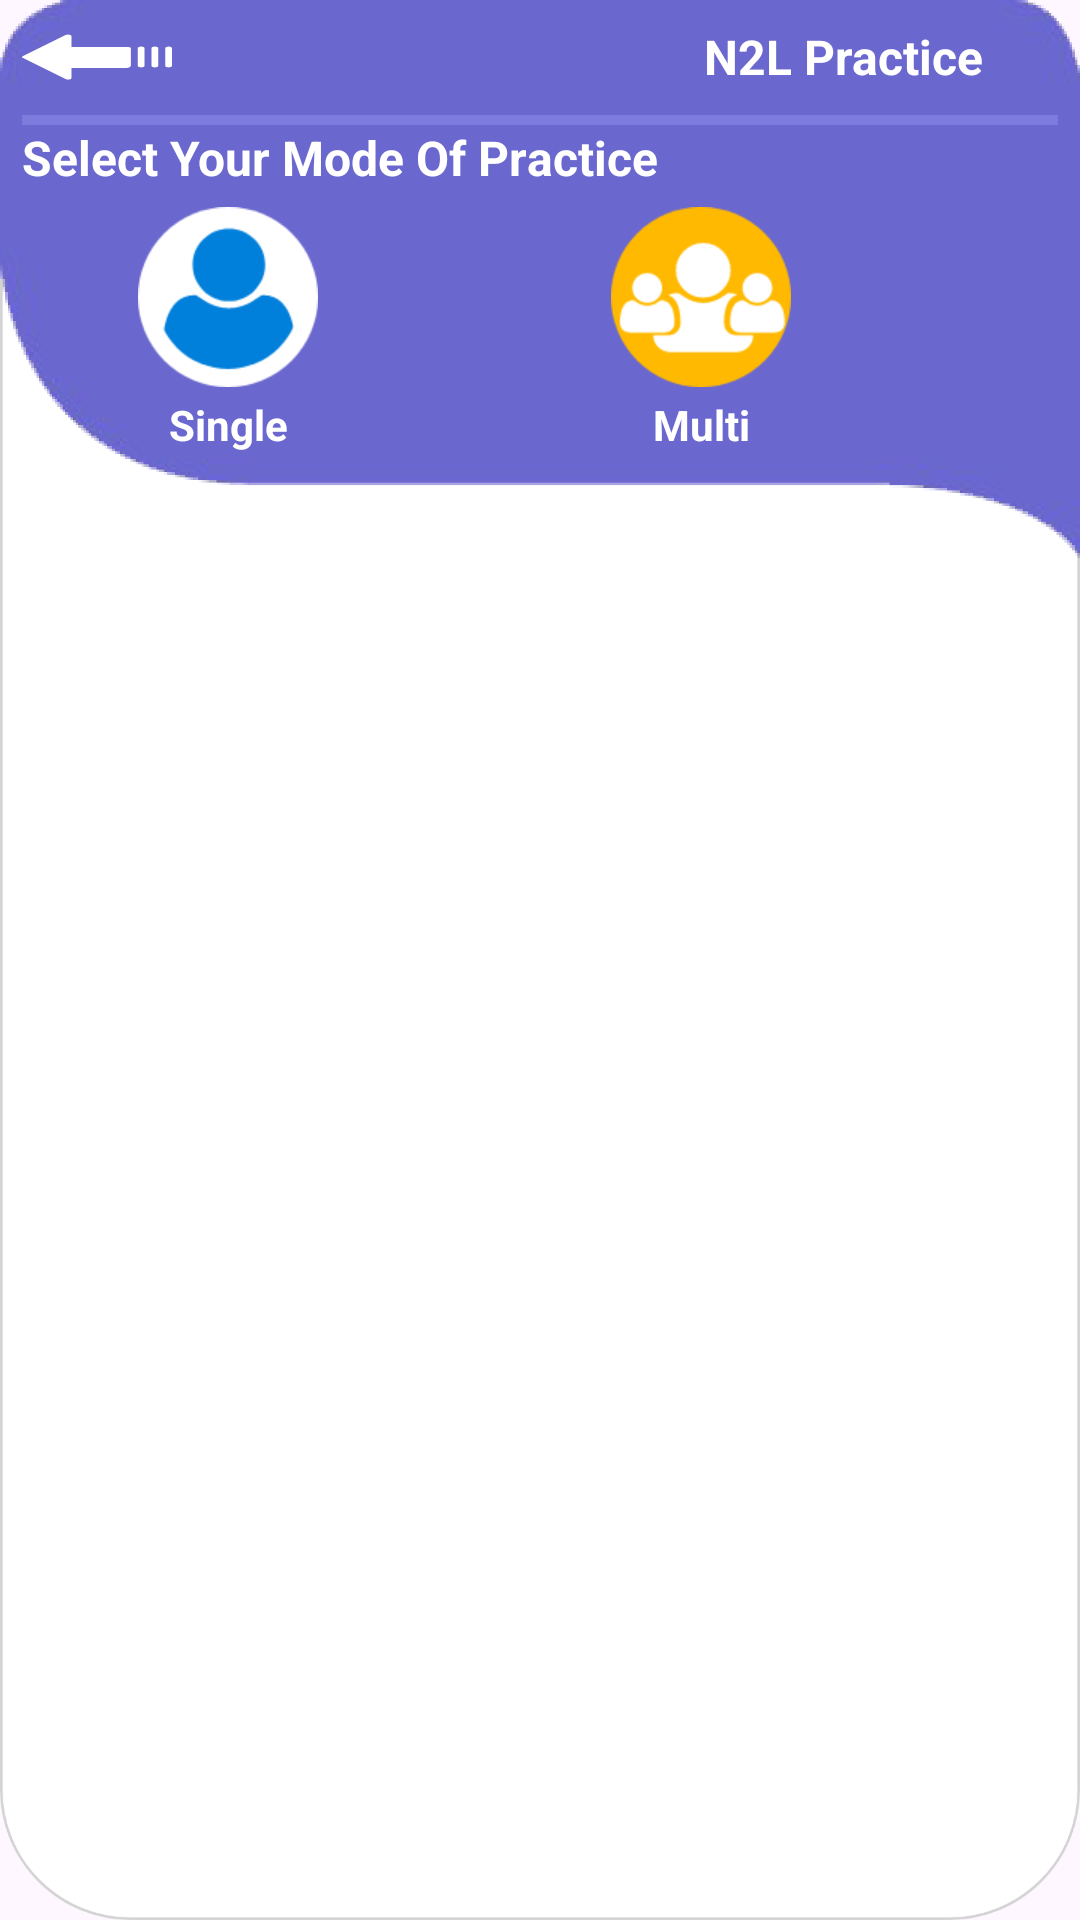

Named icons in this screenshot (1080x1920) and their centers, (x,y):
back: (97,57)
